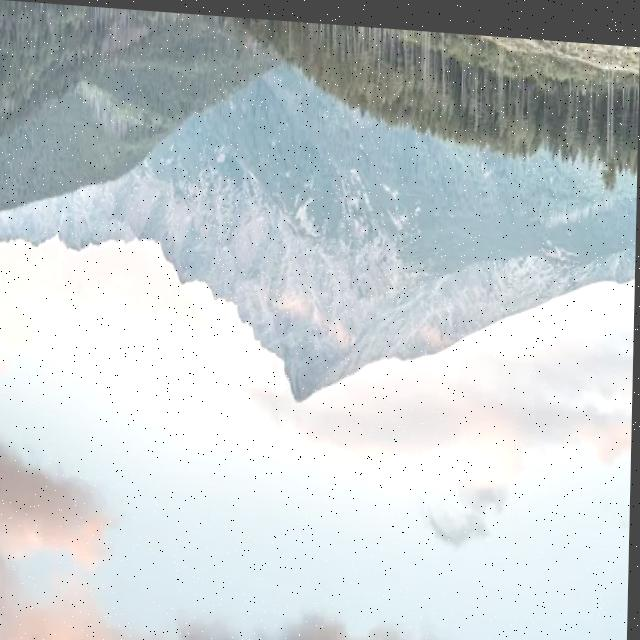Krivan: (221, 320, 381, 480)
